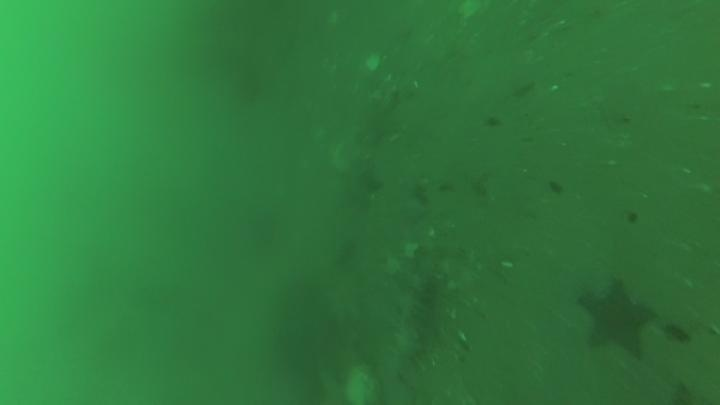holothurian: (387, 253, 441, 366)
scallop: (341, 363, 383, 405)
starfish: (575, 275, 657, 360), (333, 155, 385, 212)
